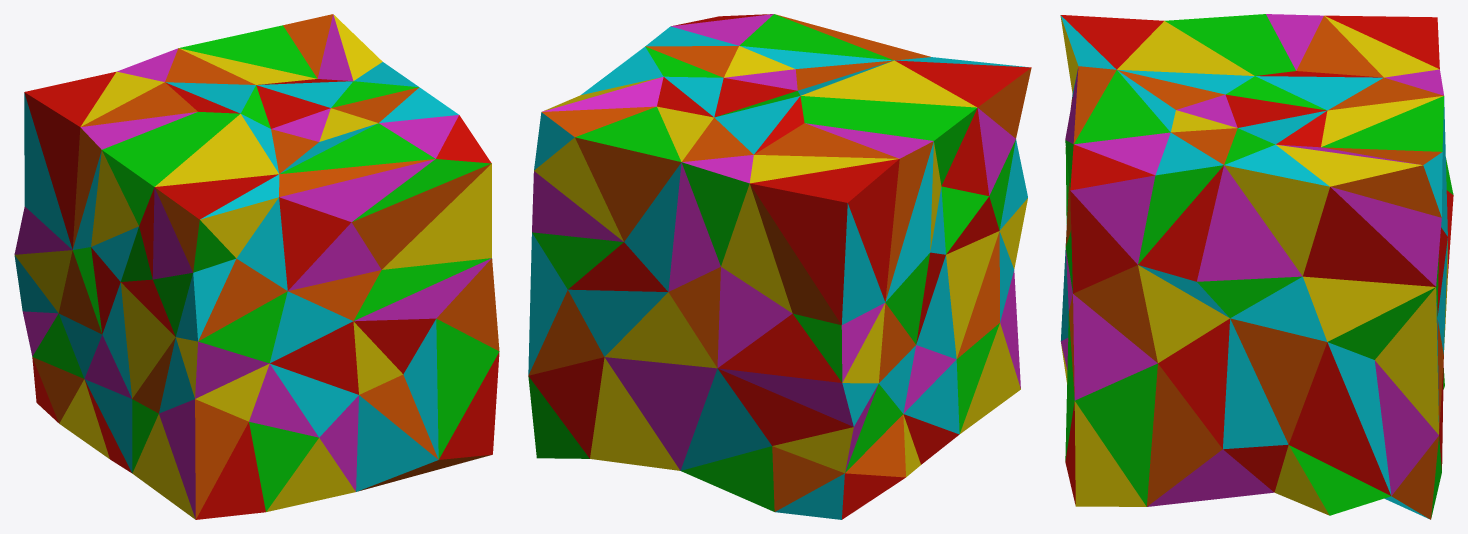
File: Colorful_cube.fbx
The picture shows the model from 3 angles, left to right: view 1: azimuth 30°, elevation 25°; view 2: azimuth 150°, elevation 25°; view 3: azimuth 270°, elevation 25°; orthographic projection. The views are drawn at different scales.
Visible parts, largest first — view 1: Cube; view 2: Cube; view 3: Cube.
Part boxes in pixels (x1,y1,x2,y2): Cube: (14,14,499,519); Cube: (528,14,1031,519); Cube: (1060,14,1453,519).
Size of the model in its own units: 214 by 210 by 211.
